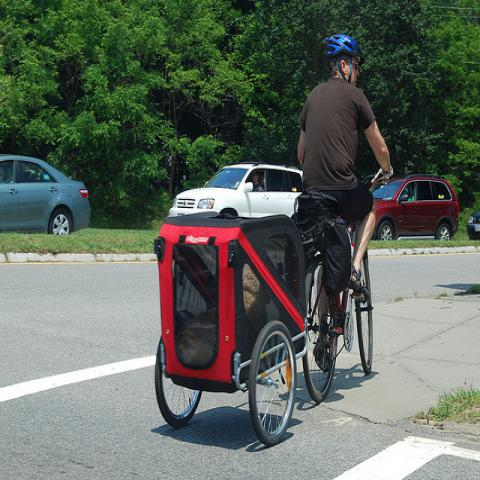car: (0, 152, 94, 240), (170, 163, 302, 219), (370, 175, 461, 244), (466, 210, 479, 241)
